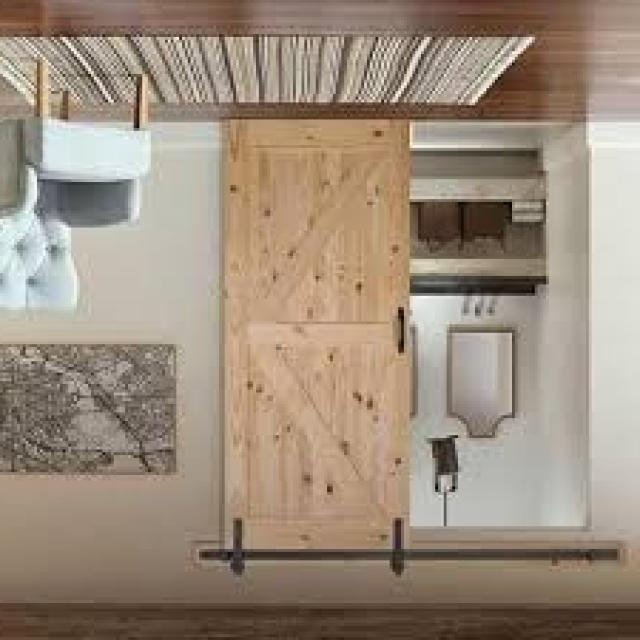door: (219, 117, 412, 563)
